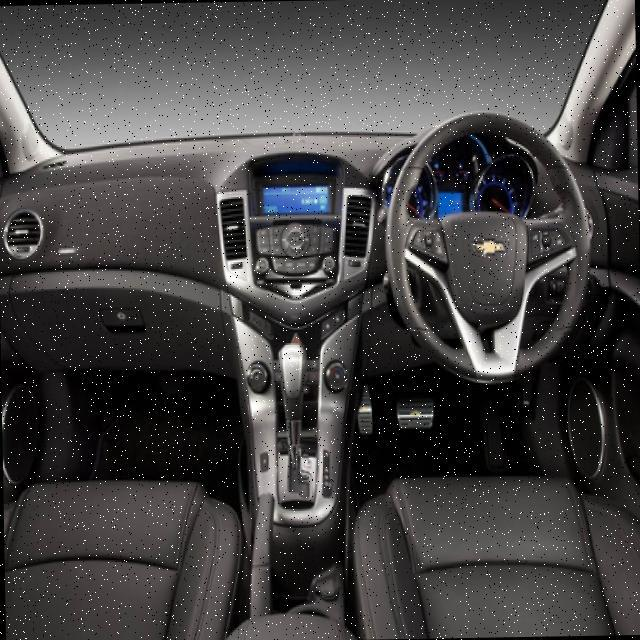Chevrolet: (472, 235, 508, 258)
